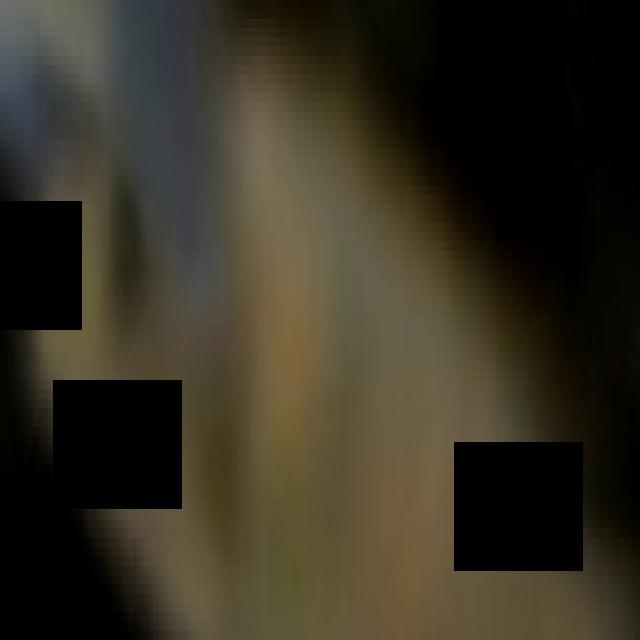fish: (3, 9, 640, 640)
